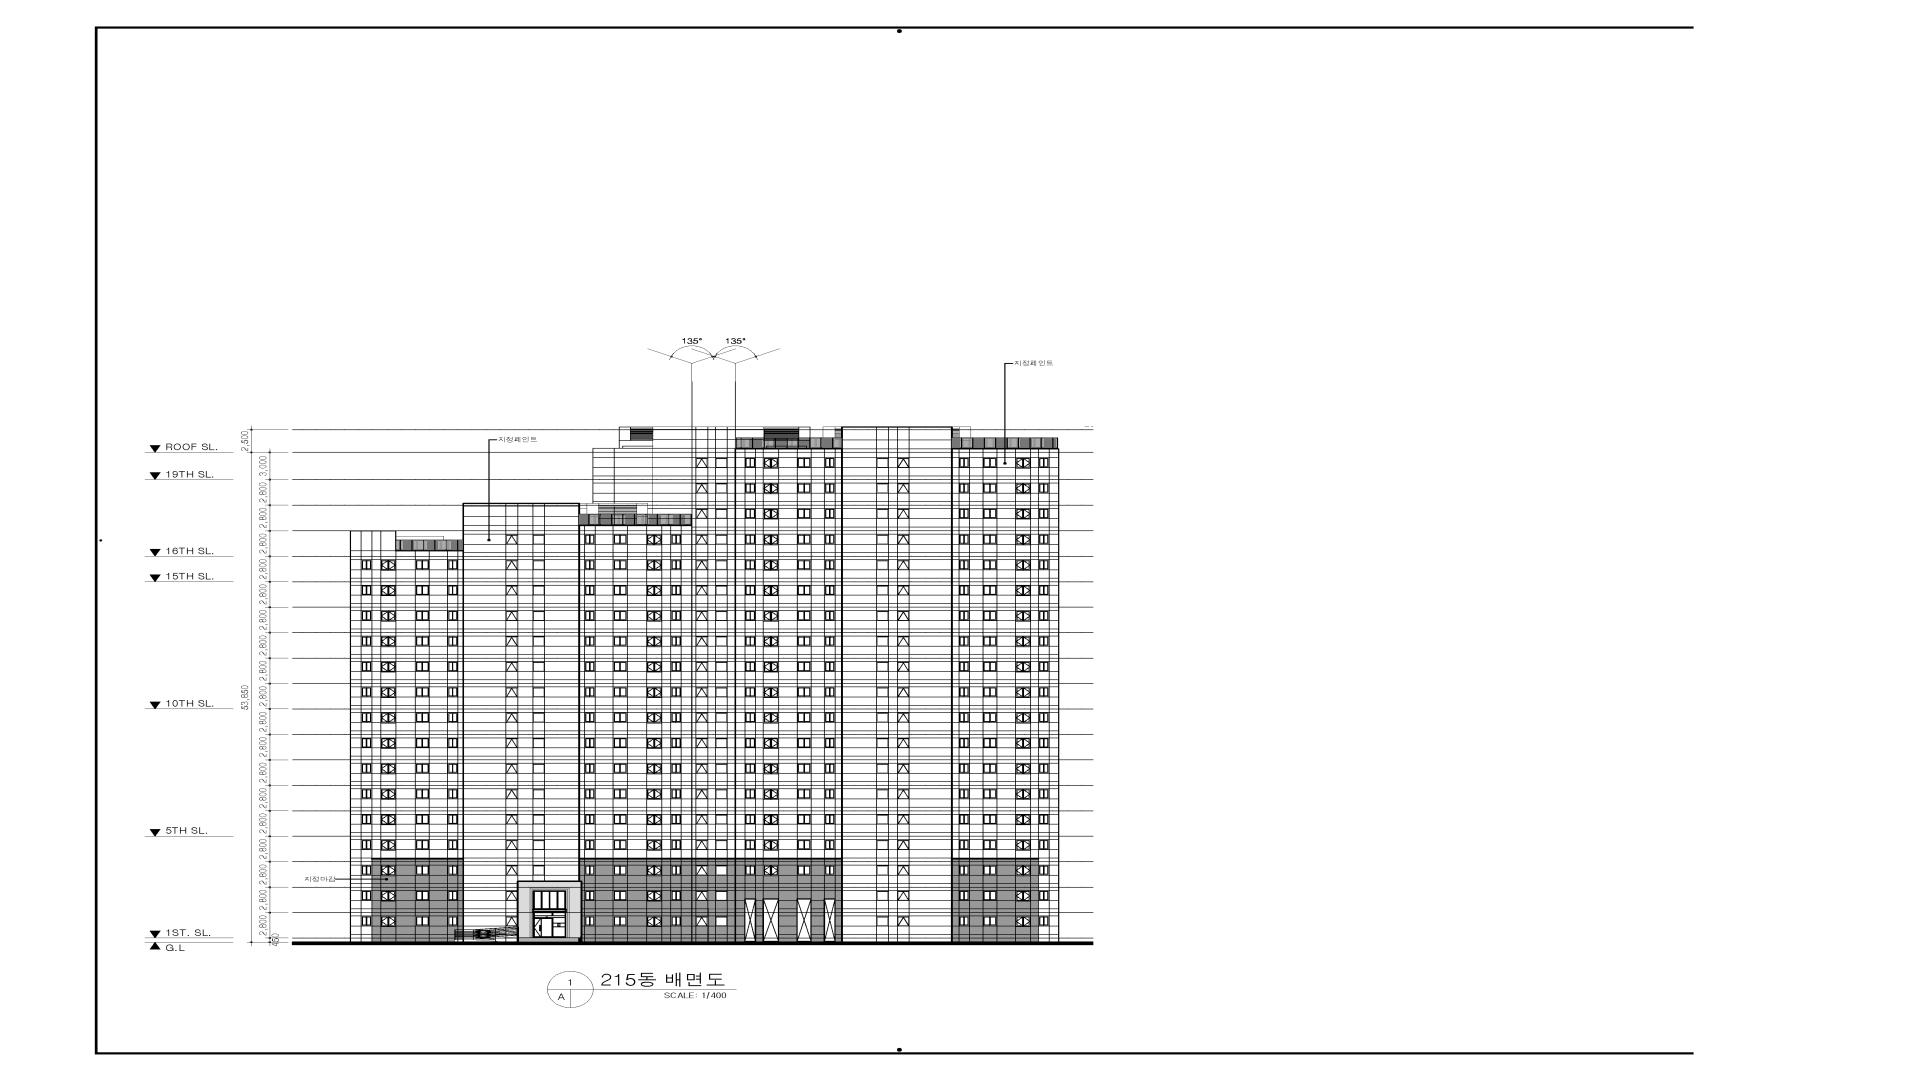background: (1, 0, 1920, 1080)
door: (762, 898, 779, 942), (532, 917, 566, 938), (796, 898, 812, 942), (823, 898, 836, 942), (744, 898, 756, 942)
wall: (350, 426, 1059, 942)
window: (533, 890, 566, 911), (532, 911, 566, 917), (380, 559, 396, 571), (1015, 457, 1031, 469), (1015, 559, 1031, 571), (1015, 839, 1031, 851), (763, 559, 779, 571), (763, 610, 779, 622), (763, 788, 779, 800), (763, 839, 779, 851), (646, 559, 662, 571), (646, 610, 662, 622), (646, 712, 662, 724), (646, 839, 662, 851), (380, 610, 396, 622), (380, 788, 396, 800), (380, 839, 396, 851), (646, 534, 662, 545), (763, 457, 779, 468), (1015, 483, 1031, 494), (1015, 508, 1031, 519), (1015, 534, 1031, 545), (1015, 585, 1031, 596), (1015, 610, 1031, 621), (1015, 636, 1031, 647), (1015, 661, 1031, 672), (1015, 687, 1031, 698), (1015, 712, 1031, 723), (1015, 738, 1031, 749), (1015, 763, 1031, 774), (1015, 789, 1031, 800), (1015, 814, 1031, 825), (1015, 865, 1031, 876), (1015, 890, 1031, 901), (1015, 916, 1031, 927), (763, 483, 779, 494), (763, 508, 779, 519), (763, 534, 779, 545), (763, 585, 779, 596), (763, 636, 779, 647), (763, 661, 779, 672), (763, 687, 779, 698), (763, 712, 779, 723), (763, 738, 779, 749), (763, 763, 779, 774), (763, 814, 779, 825), (763, 865, 779, 876), (646, 585, 662, 596), (646, 636, 662, 647), (646, 661, 662, 672), (646, 687, 662, 698), (646, 738, 662, 749), (646, 763, 662, 774), (646, 789, 662, 800), (646, 814, 662, 825), (646, 865, 662, 876), (646, 890, 662, 901), (646, 916, 662, 927), (380, 585, 396, 596), (380, 636, 396, 647), (380, 661, 396, 672), (380, 687, 396, 698), (380, 712, 396, 723), (380, 738, 396, 749), (380, 763, 396, 774), (380, 814, 396, 825), (380, 865, 396, 876), (380, 890, 396, 901), (380, 916, 396, 927), (415, 559, 430, 570), (613, 534, 628, 545), (797, 457, 812, 468), (797, 483, 812, 494), (797, 508, 812, 519), (797, 534, 812, 545), (797, 559, 812, 570), (797, 610, 812, 621), (797, 661, 812, 672), (797, 712, 812, 723), (797, 763, 812, 774), (797, 788, 812, 799), (797, 839, 812, 850), (797, 865, 812, 876), (613, 559, 628, 570), (613, 610, 628, 621), (613, 661, 628, 672), (613, 712, 628, 723), (613, 763, 628, 774), (613, 814, 628, 825), (613, 839, 628, 850), (613, 865, 628, 876), (613, 890, 628, 901), (415, 610, 430, 621), (415, 661, 430, 672), (415, 712, 430, 723), (415, 763, 430, 774), (415, 788, 430, 799), (415, 814, 430, 825), (415, 839, 430, 850), (415, 865, 430, 876), (415, 890, 430, 901), (983, 457, 997, 468), (983, 483, 997, 494), (983, 508, 997, 519), (983, 534, 997, 545), (983, 559, 997, 570), (983, 610, 997, 621), (983, 661, 997, 672), (983, 712, 997, 723), (983, 763, 997, 774), (983, 788, 997, 799), (983, 839, 997, 850), (983, 890, 997, 901), (797, 585, 812, 595), (797, 636, 812, 646), (797, 687, 812, 697), (797, 738, 812, 748), (797, 814, 812, 824), (613, 585, 628, 595), (613, 636, 628, 646), (613, 687, 628, 697), (613, 738, 628, 748), (613, 789, 628, 799), (613, 916, 628, 926), (415, 585, 430, 595), (415, 636, 430, 646), (415, 687, 430, 697), (415, 738, 430, 748), (415, 916, 430, 926), (505, 534, 518, 545), (532, 534, 545, 545), (715, 457, 728, 468), (876, 457, 889, 468), (897, 457, 910, 468), (876, 483, 889, 494), (876, 508, 889, 519), (876, 534, 889, 545), (876, 559, 889, 570), (897, 559, 910, 570), (876, 610, 889, 621), (897, 610, 910, 621), (876, 636, 889, 647), (897, 636, 910, 647), (876, 661, 889, 672), (897, 661, 910, 672), (876, 712, 889, 723), (876, 763, 889, 774), (897, 763, 910, 774), (876, 788, 889, 799), (897, 814, 910, 825), (876, 839, 889, 850), (876, 865, 889, 876), (897, 865, 910, 876), (876, 890, 889, 901), (695, 483, 708, 494), (695, 508, 708, 519), (715, 508, 728, 519), (695, 534, 708, 545), (715, 534, 728, 545), (715, 559, 728, 570), (695, 610, 708, 621), (715, 610, 728, 621), (715, 636, 728, 647), (695, 661, 708, 672), (715, 661, 728, 672), (715, 712, 728, 723), (695, 763, 708, 774), (715, 763, 728, 774), (715, 788, 728, 799), (695, 839, 708, 850), (715, 839, 728, 850), (695, 865, 708, 876), (715, 865, 728, 876), (715, 890, 728, 901), (505, 559, 518, 570), (532, 559, 545, 570), (505, 610, 518, 621), (505, 661, 518, 672), (532, 610, 545, 621), (532, 636, 545, 647), (532, 661, 545, 672), (532, 712, 545, 723), (532, 763, 545, 774), (505, 712, 518, 723), (505, 763, 518, 774), (505, 788, 518, 799), (505, 839, 518, 850), (505, 865, 518, 876), (532, 839, 545, 850), (983, 585, 997, 595), (983, 636, 997, 646), (983, 687, 997, 697), (983, 738, 997, 748), (983, 814, 997, 824), (983, 865, 997, 875), (983, 916, 997, 926), (696, 457, 708, 468), (584, 534, 596, 545), (670, 534, 682, 545), (824, 457, 836, 468), (1038, 457, 1050, 468), (1038, 483, 1050, 494), (1038, 508, 1050, 519), (1038, 534, 1050, 545), (1038, 559, 1050, 570), (1038, 610, 1050, 621), (1038, 661, 1050, 672), (1038, 712, 1050, 723), (1038, 763, 1050, 774), (1038, 839, 1050, 850), (1038, 865, 1050, 876), (1038, 890, 1050, 901), (897, 508, 909, 519), (897, 534, 909, 545), (897, 712, 909, 723), (897, 788, 909, 799), (897, 839, 909, 850), (897, 890, 909, 901), (696, 559, 708, 570), (696, 712, 708, 723), (696, 814, 708, 825), (696, 890, 708, 901), (824, 483, 836, 494), (824, 508, 836, 519), (824, 534, 836, 545), (824, 559, 836, 570), (824, 610, 836, 621), (824, 712, 836, 723), (824, 763, 836, 774), (824, 839, 836, 850), (670, 585, 682, 596), (670, 610, 682, 621), (584, 559, 596, 570), (584, 585, 596, 596), (584, 610, 596, 621), (584, 661, 596, 672), (670, 712, 682, 723), (670, 763, 682, 774), (670, 788, 682, 799), (670, 814, 682, 825), (670, 839, 682, 850), (670, 890, 682, 901), (584, 712, 596, 723), (584, 763, 596, 774), (584, 788, 596, 799), (584, 839, 596, 850), (584, 865, 596, 876), (584, 890, 596, 901), (505, 890, 517, 901), (533, 788, 545, 799), (533, 865, 545, 876), (897, 483, 910, 493), (897, 585, 910, 595), (876, 585, 889, 595), (876, 687, 889, 697), (897, 687, 910, 697), (876, 738, 889, 748), (876, 814, 889, 824), (876, 916, 889, 926), (715, 483, 728, 493), (695, 585, 708, 595), (715, 585, 728, 595), (695, 636, 708, 646), (695, 687, 708, 697), (715, 687, 728, 697), (695, 738, 708, 748), (715, 738, 728, 748), (715, 814, 728, 824), (715, 916, 728, 926), (505, 585, 518, 595), (505, 636, 518, 646), (532, 585, 545, 595), (532, 687, 545, 697), (532, 738, 545, 748), (505, 687, 518, 697), (505, 738, 518, 748), (505, 814, 518, 824), (361, 559, 372, 570), (447, 559, 458, 570), (745, 457, 756, 468), (959, 457, 970, 468), (959, 508, 970, 519), (959, 534, 970, 545), (959, 559, 970, 570), (959, 610, 970, 621), (959, 661, 970, 672), (959, 712, 970, 723), (959, 763, 970, 774), (959, 788, 970, 799), (959, 839, 970, 850), (959, 865, 970, 876), (959, 890, 970, 901), (745, 508, 756, 519), (745, 534, 756, 545), (745, 559, 756, 570), (745, 610, 756, 621), (745, 636, 756, 647), (824, 661, 835, 672), (745, 661, 756, 672), (745, 712, 756, 723), (745, 763, 756, 774), (745, 788, 756, 799), (745, 814, 756, 825), (745, 839, 756, 850), (745, 865, 756, 876), (670, 559, 681, 570), (670, 661, 681, 672), (447, 610, 458, 621), (447, 661, 458, 672), (361, 610, 372, 621), (361, 661, 372, 672), (361, 712, 372, 723), (361, 763, 372, 774), (361, 788, 372, 799), (361, 839, 372, 850), (361, 865, 372, 876), (361, 890, 372, 901), (447, 712, 458, 723), (447, 763, 458, 774), (447, 814, 458, 825), (447, 839, 458, 850), (447, 865, 458, 876), (447, 890, 458, 901), (1038, 585, 1050, 595), (1038, 636, 1050, 646), (1038, 687, 1050, 697), (1038, 738, 1050, 748), (1038, 789, 1050, 799), (1038, 814, 1050, 824), (1038, 916, 1050, 926), (897, 738, 909, 748), (897, 916, 909, 926), (696, 789, 708, 799), (696, 916, 708, 926), (824, 585, 836, 595), (824, 636, 836, 646), (824, 738, 836, 748), (824, 789, 836, 799), (824, 814, 836, 824), (824, 865, 836, 875), (584, 636, 596, 646), (670, 687, 682, 697), (670, 738, 682, 748), (670, 865, 682, 875), (670, 916, 682, 926), (584, 687, 596, 697), (584, 738, 596, 748), (584, 814, 596, 824), (505, 916, 517, 926), (533, 814, 545, 824), (959, 483, 970, 493), (959, 585, 970, 595), (959, 636, 970, 646), (959, 687, 970, 697), (959, 738, 970, 748), (959, 814, 970, 824), (959, 916, 970, 926), (745, 483, 756, 493), (745, 585, 756, 595), (824, 687, 835, 697), (745, 687, 756, 697), (745, 738, 756, 748), (670, 636, 681, 646), (584, 916, 595, 926), (447, 585, 458, 595), (447, 636, 458, 646), (447, 687, 458, 697), (361, 585, 372, 595), (361, 636, 372, 646), (361, 687, 372, 697), (361, 738, 372, 748), (361, 814, 372, 824), (361, 916, 372, 926), (447, 738, 458, 748), (447, 789, 458, 799), (447, 916, 458, 926)
